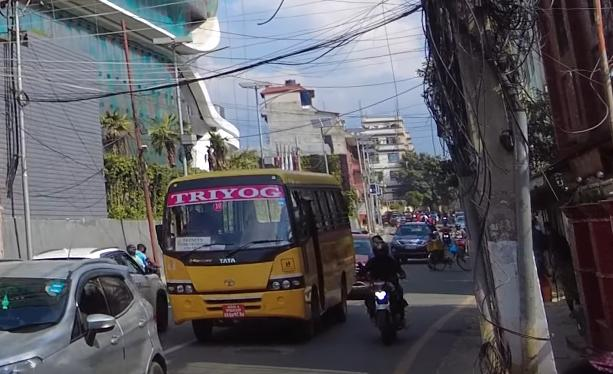bike: (366, 276, 412, 348)
school_bus: (153, 164, 364, 341)
